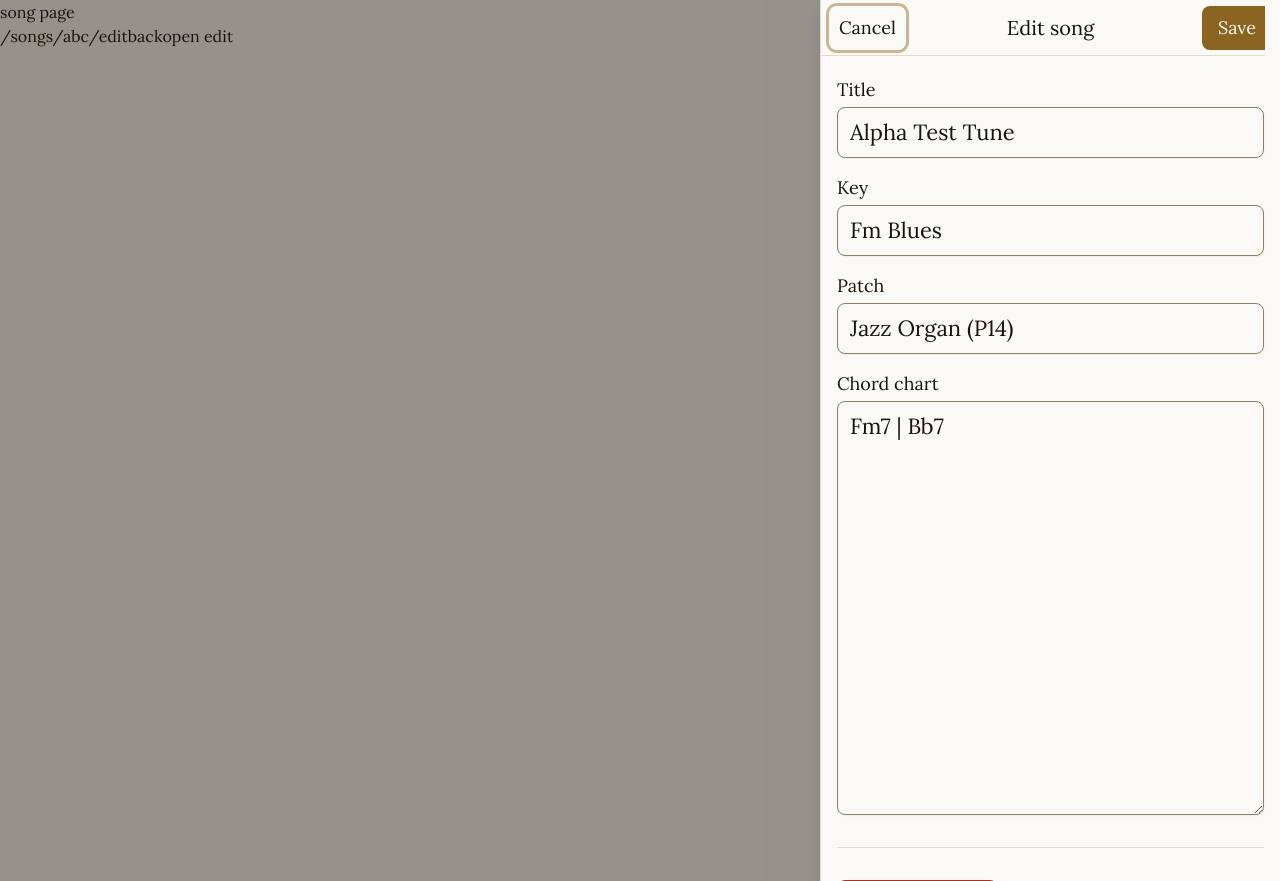
Test: SongEdit › disables Save when an edit clears the title
This screenshot has width=1280, height=881.
Expected: the button "Save" is enabled, [1202,6,1272,50]
Step 1. Clear the field labelled "Title" → x=1050, y=132, box [837,107,1264,158]
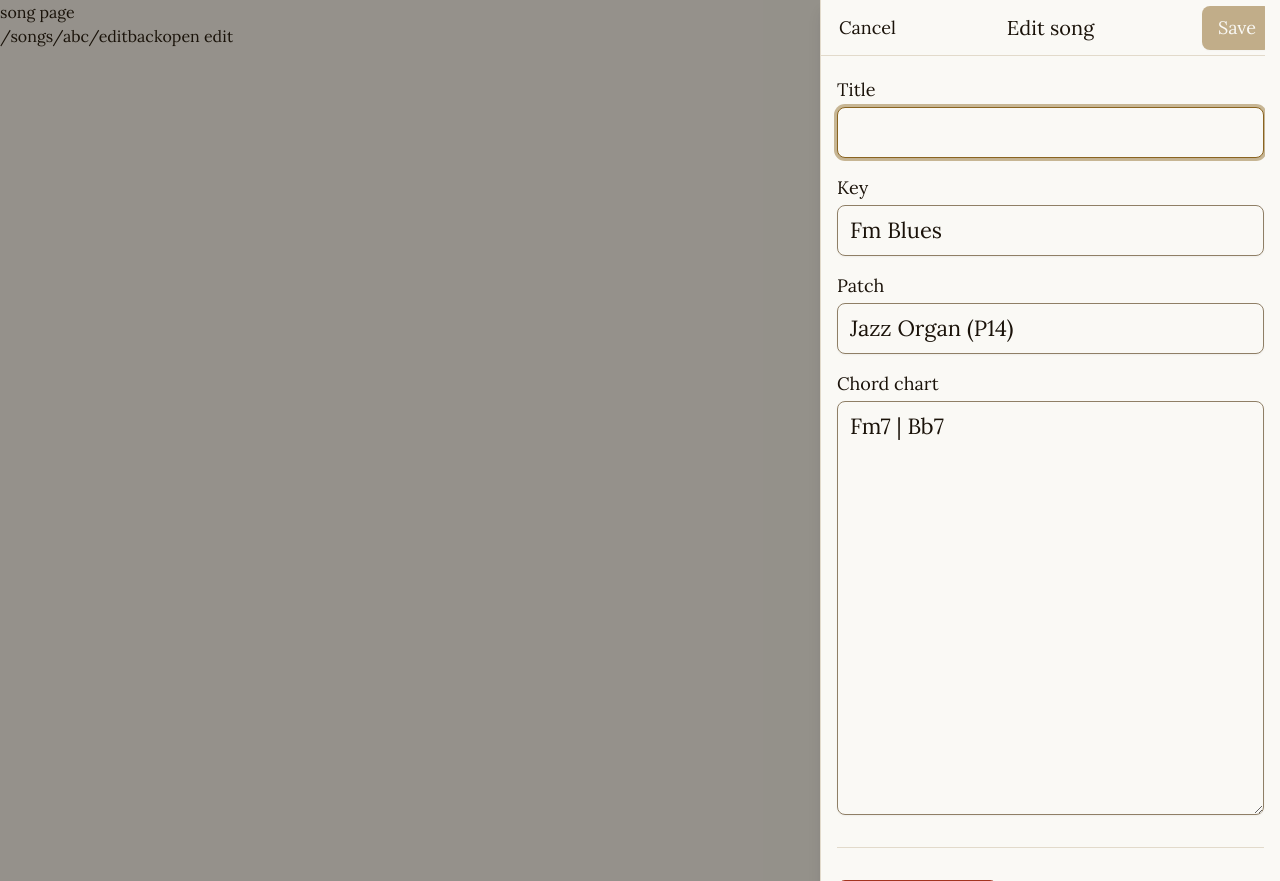
Expected: the button "Save" is disabled, [1202,6,1272,50]
